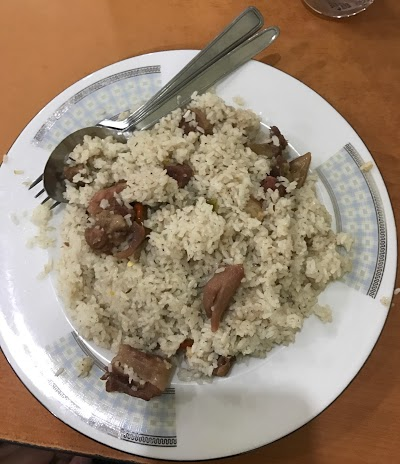tehari: (38, 94, 341, 396)
